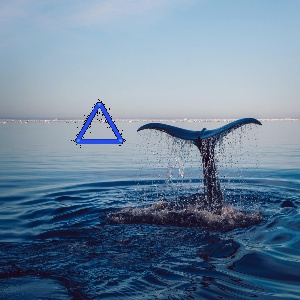triangle: (72, 99, 129, 148)
